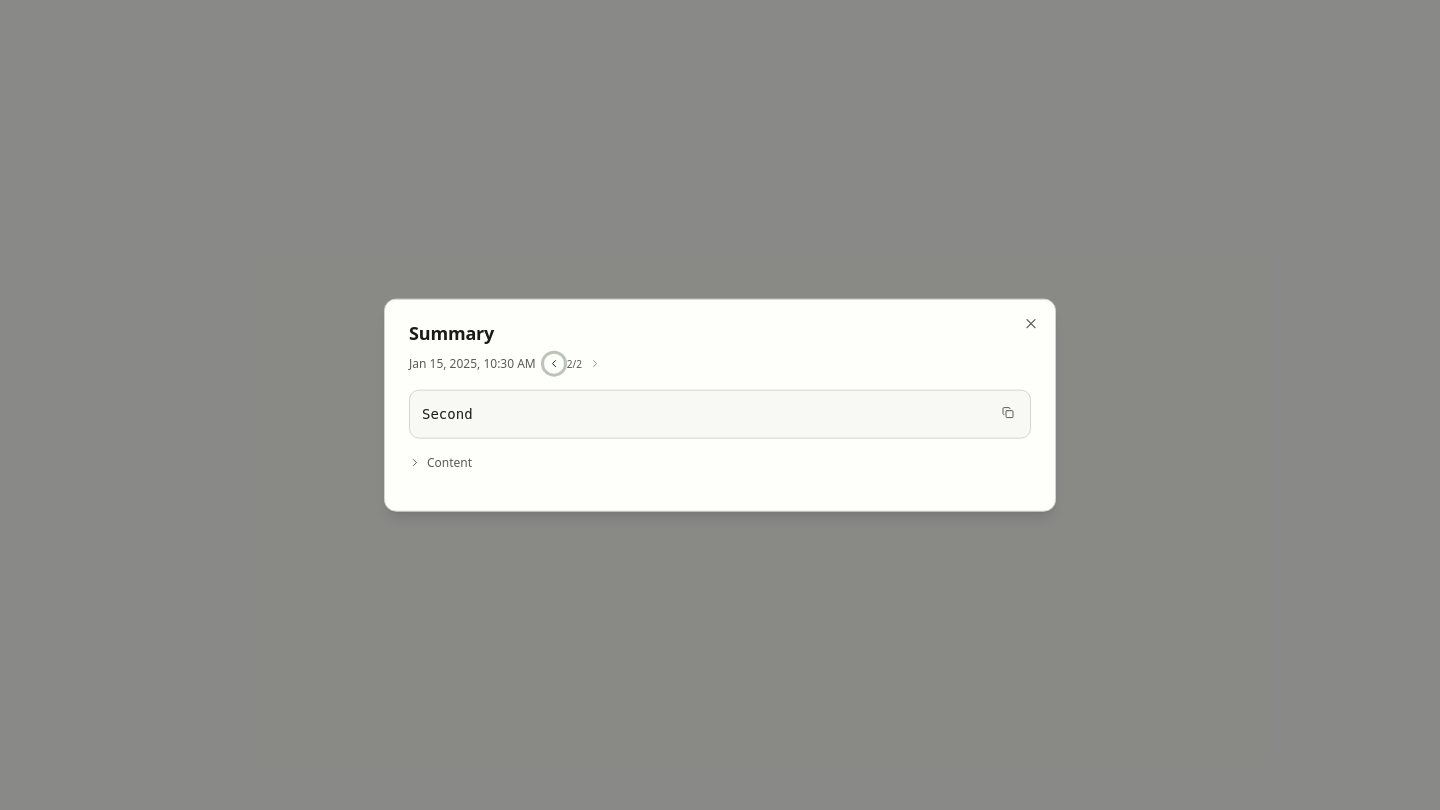
Test: SummaryViewerModal › navigates to previous summary
Check: the text "Second" is shown, box [422,406,473,422]
Step 1. Click the button named "Previous summary" → (554, 364), box [544,354,564,374]
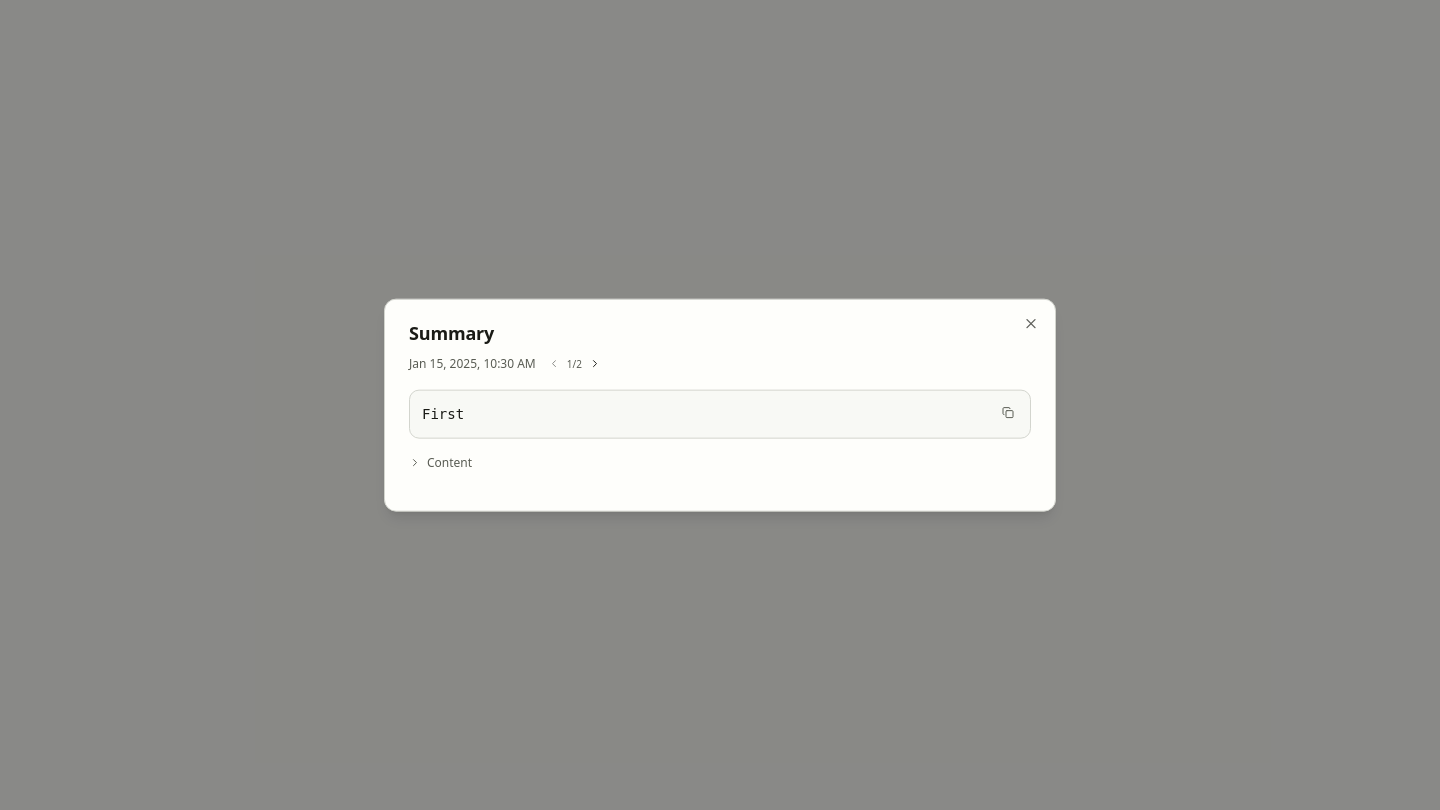
Check: the text "First" is shown, box [422,406,464,422]
